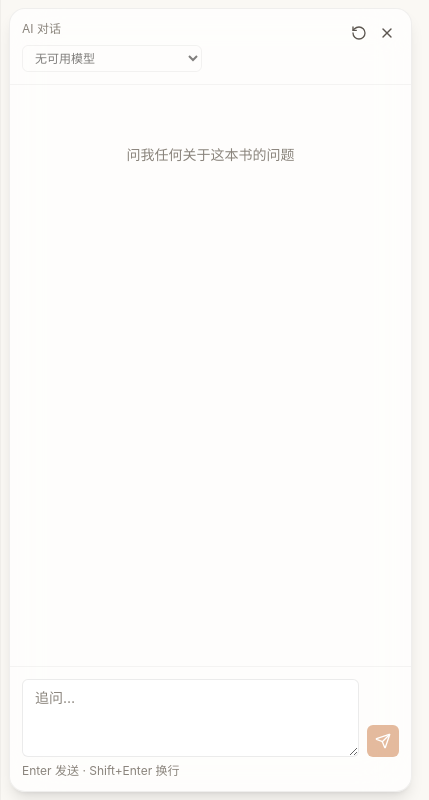
it: AISidebar › excludes failed exchanges from the next chat request history
This screenshot has width=429, height=800.
Type "失败的问题" into the text box with placeholder "追问…" at (190, 718), box 22,679 -> 359,757
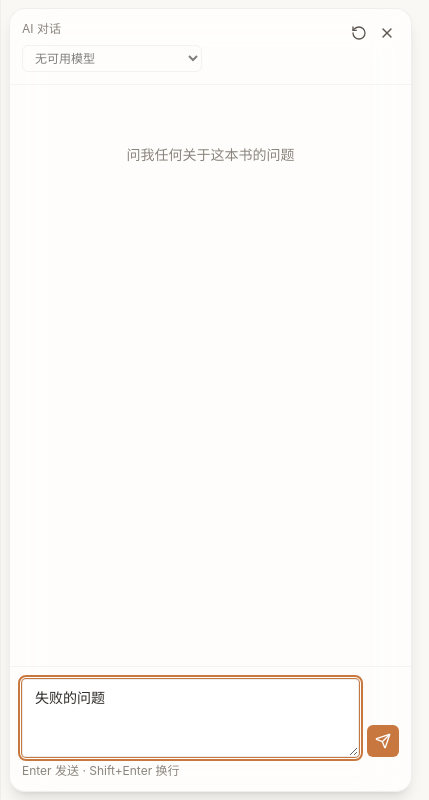
Click the button named "发送" at (383, 741), box 367,725 -> 399,757
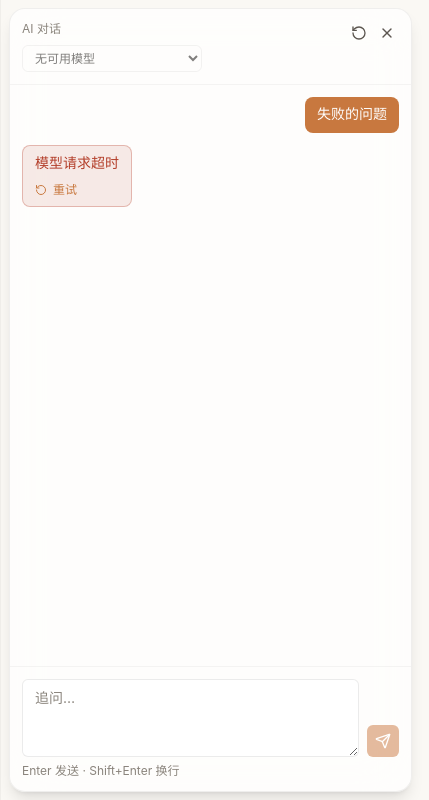
Check: the message shows "模型请求超时", box 35,156 -> 119,171
Type "新的问题" into the text box with placeholder "追问…" at (190, 718), box 22,679 -> 359,757
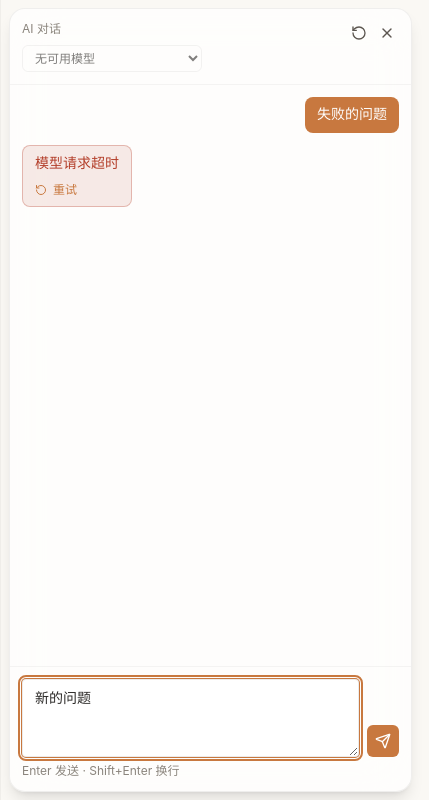
Click the button named "发送" at (383, 741), box 367,725 -> 399,757
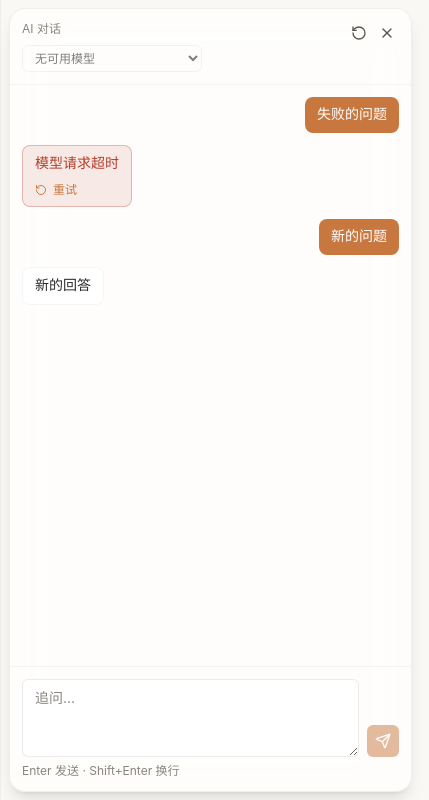
Check: the text "新的回答" is shown, box 22,267 -> 104,305
